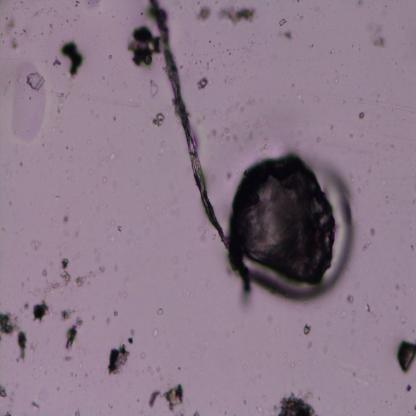Background material: (233, 152, 339, 288), (325, 161, 357, 284), (33, 253, 104, 298), (128, 24, 162, 68), (198, 6, 255, 26), (272, 391, 317, 415), (60, 40, 86, 78), (396, 334, 416, 374), (208, 119, 244, 141), (106, 344, 128, 376), (64, 316, 84, 350), (366, 21, 388, 50), (163, 383, 185, 412), (3, 16, 20, 52), (53, 90, 68, 130), (0, 310, 20, 337), (30, 304, 54, 323), (24, 70, 46, 90), (278, 17, 292, 41), (149, 110, 165, 129), (148, 390, 161, 413), (32, 4, 52, 18), (17, 334, 27, 362), (148, 78, 160, 100), (196, 76, 209, 96), (86, 1, 102, 17), (26, 337, 41, 351), (96, 154, 116, 164), (204, 56, 217, 70), (18, 298, 30, 312), (154, 367, 166, 381), (60, 307, 72, 320), (302, 322, 312, 337), (0, 383, 8, 401), (364, 300, 374, 314), (362, 238, 372, 252), (29, 238, 40, 250), (225, 42, 234, 56), (59, 353, 73, 362), (224, 74, 234, 86), (224, 168, 234, 180), (48, 19, 55, 36), (30, 399, 40, 410), (52, 57, 62, 68), (408, 239, 416, 252), (62, 212, 70, 225), (212, 40, 222, 50), (404, 382, 412, 394), (347, 292, 354, 305), (328, 119, 335, 132), (156, 307, 165, 317), (374, 90, 380, 104), (358, 110, 366, 120), (193, 408, 203, 416), (152, 330, 160, 340), (354, 0, 364, 8), (106, 50, 113, 61), (369, 226, 375, 238), (100, 175, 108, 184), (126, 335, 134, 344), (339, 96, 347, 105), (110, 113, 118, 122), (107, 400, 114, 410), (71, 409, 81, 416), (115, 224, 122, 234), (330, 46, 336, 57), (74, 0, 82, 8), (388, 144, 396, 152), (176, 61, 184, 69), (4, 409, 13, 416), (130, 326, 136, 336), (138, 350, 145, 358), (334, 70, 338, 84), (145, 363, 152, 371), (105, 316, 111, 325), (315, 136, 322, 143), (100, 74, 107, 81), (54, 384, 60, 392), (68, 154, 73, 162), (113, 310, 118, 315)
Cellulose filter fibre: (146, 0, 251, 295)
